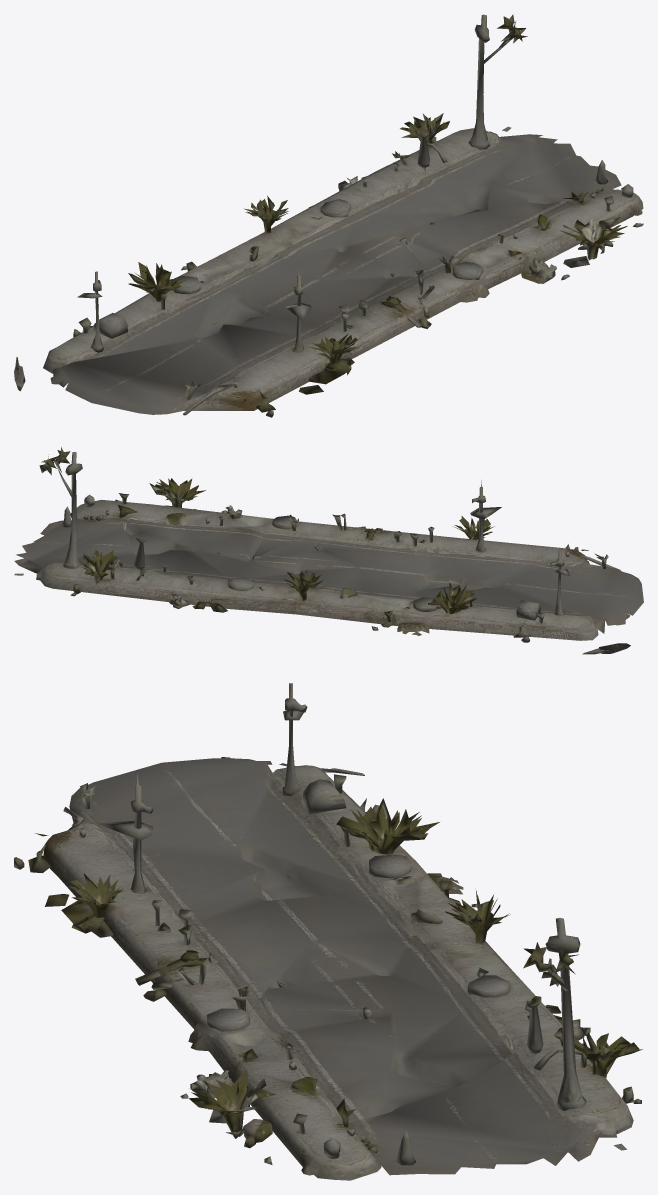
The model's file is abandoned_urban_street.glb.
3 views of the same model, one above another, from view 1: azimuth 30°, elevation 25°; view 2: azimuth 150°, elevation 25°; view 3: azimuth 270°, elevation 25° (orthographic). The views are drawn at different scales.
Visible parts, largest first — view 1: tripo_node_12bddef8-476c-4d47-87f6-7cbe344e29fb; view 2: tripo_node_12bddef8-476c-4d47-87f6-7cbe344e29fb; view 3: tripo_node_12bddef8-476c-4d47-87f6-7cbe344e29fb.
Boxes of the visible parts, x1,y1,x2,y2 form: tripo_node_12bddef8-476c-4d47-87f6-7cbe344e29fb: (14,14,643,417); tripo_node_12bddef8-476c-4d47-87f6-7cbe344e29fb: (14,447,643,654); tripo_node_12bddef8-476c-4d47-87f6-7cbe344e29fb: (14,683,642,1180).
Bounding box in the file's own units: 0.998 × 0.248 × 0.5996.
Materials: 1 (1 with a texture image).
